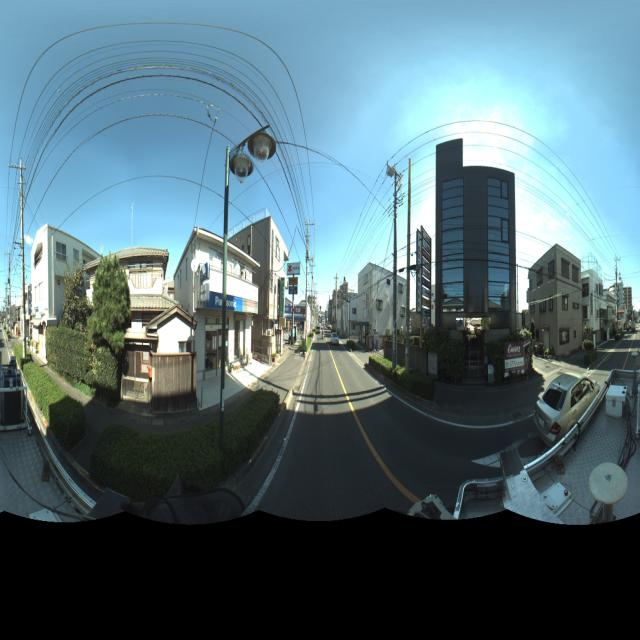b_1: (438, 127, 520, 386), (178, 225, 257, 369), (526, 237, 585, 357), (255, 215, 298, 379), (360, 260, 410, 352), (29, 230, 58, 336), (581, 256, 605, 352), (609, 273, 636, 334), (344, 282, 364, 343)
b_2: (81, 248, 172, 376)
